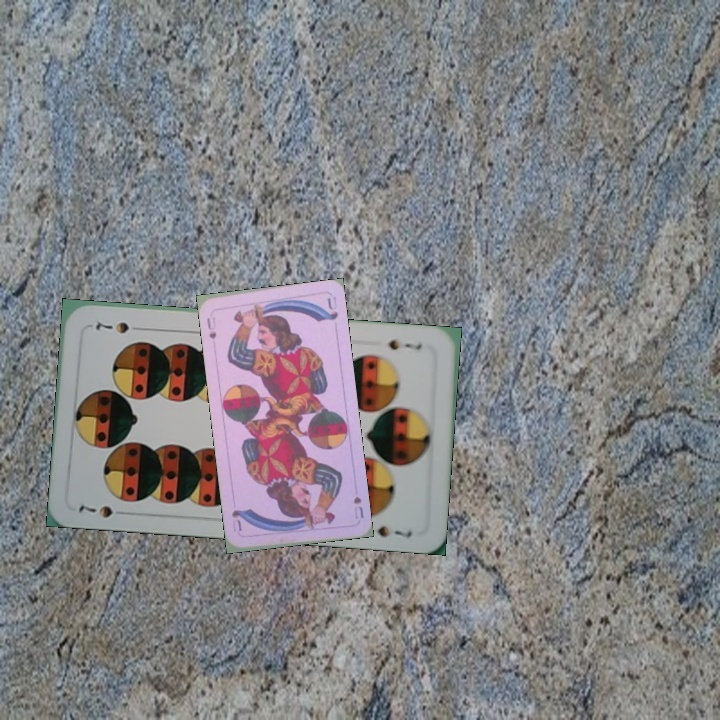S7: (75, 500, 131, 520), (385, 335, 424, 353)
SU: (349, 492, 366, 521), (202, 313, 219, 342)
